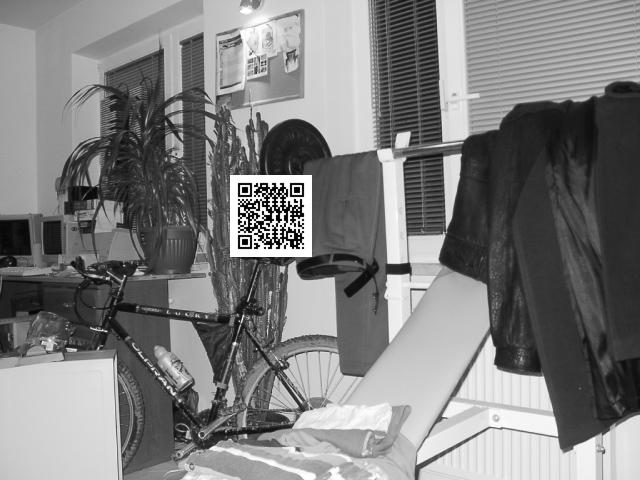qr_code: (230, 174, 311, 255)
